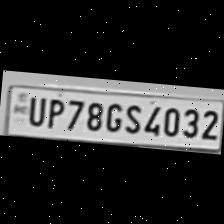0: (160, 102, 181, 136)
2: (198, 104, 221, 140)
3: (179, 104, 200, 138)
4: (141, 100, 162, 135)
7: (62, 94, 86, 131)
8: (82, 97, 105, 132)
G: (102, 97, 123, 132)
P: (42, 93, 64, 129)
S: (121, 100, 142, 134)
U: (23, 92, 47, 127)
